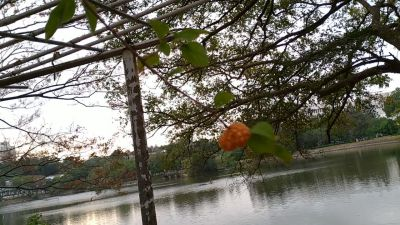eggs: (218, 119, 252, 152)
